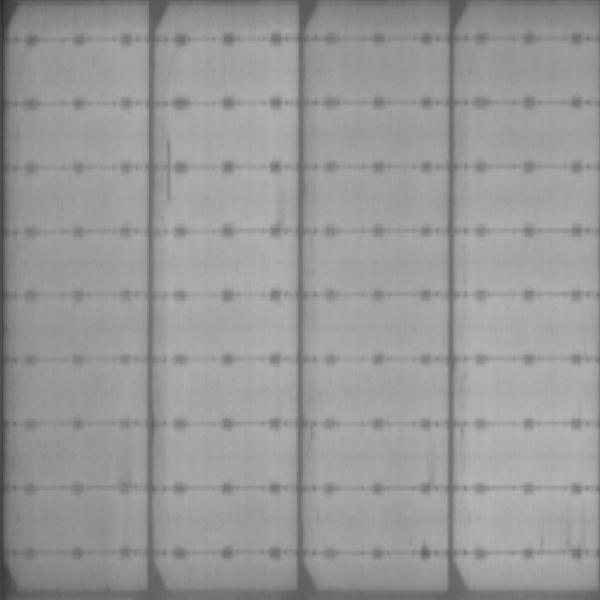scratch: (161, 131, 175, 211)
